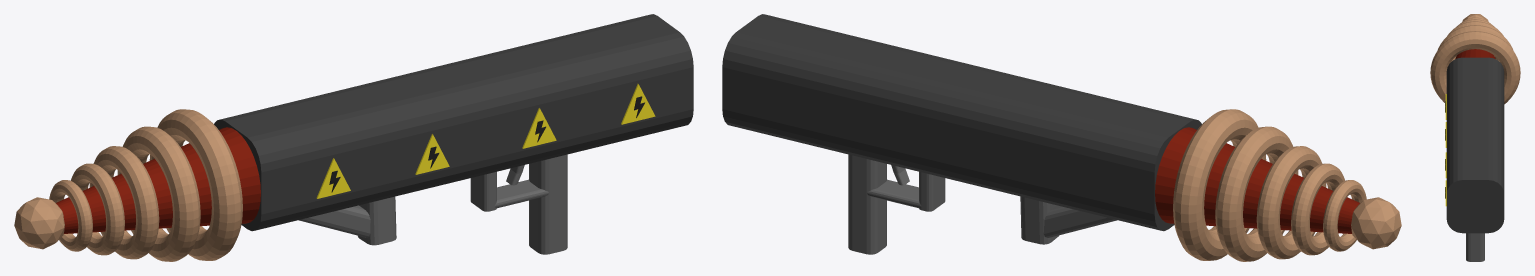
Rendered from teslaCoil.fbx.
3 views of the same model, side by side, from view 1: azimuth 30°, elevation 25°; view 2: azimuth 150°, elevation 25°; view 3: azimuth 270°, elevation 25° (orthographic). The views are drawn at different scales.
Visible parts, largest first — view 1: Cylinder; view 2: Cylinder; view 3: Cylinder.
Part boxes in pixels (x1,y1,x2,y2): Cylinder: [14, 14, 693, 261]; Cylinder: [722, 14, 1401, 261]; Cylinder: [1430, 14, 1520, 261].
Bounding box in the file's own units: 82.47 × 26.38 × 17.07.
